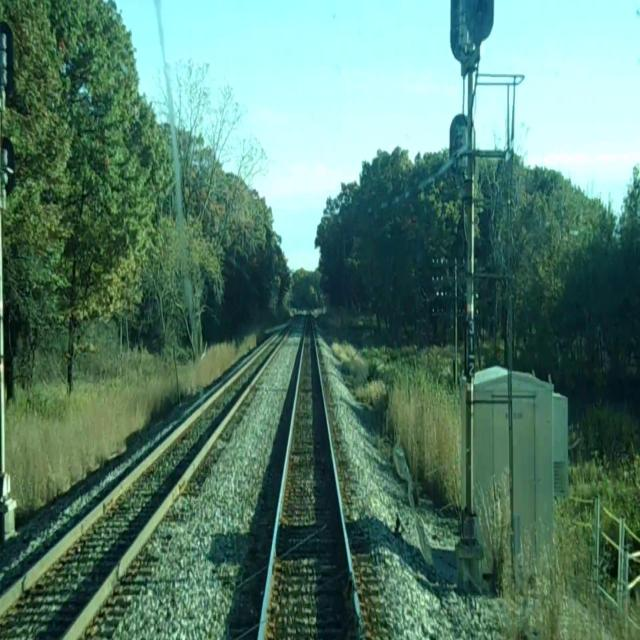rail-track: (263, 311, 360, 639)
